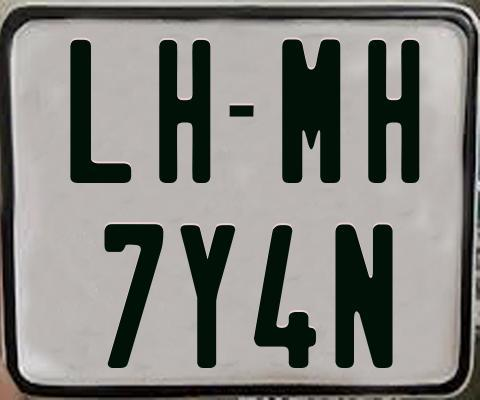4: (254, 225, 316, 371)
7: (102, 223, 165, 369)
H: (158, 38, 214, 185), (367, 37, 420, 183)
L: (68, 40, 132, 187)
M: (279, 38, 337, 183)
N: (333, 221, 396, 369)
Y: (179, 224, 239, 370)
